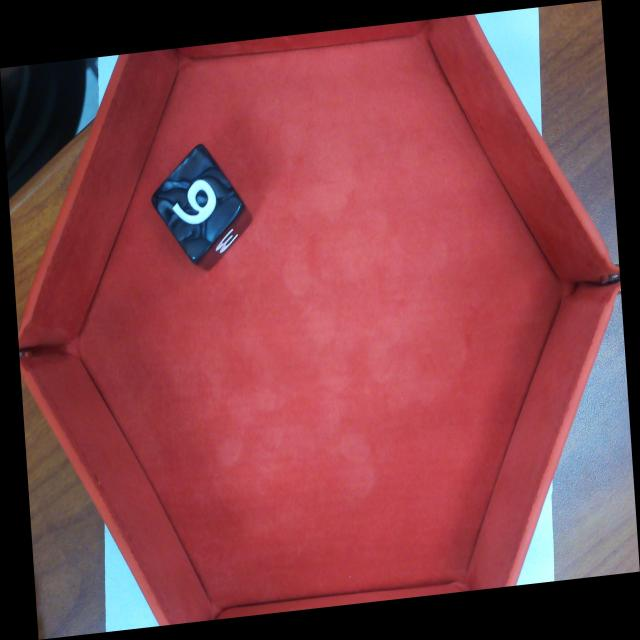dice: (151, 142, 246, 266)
